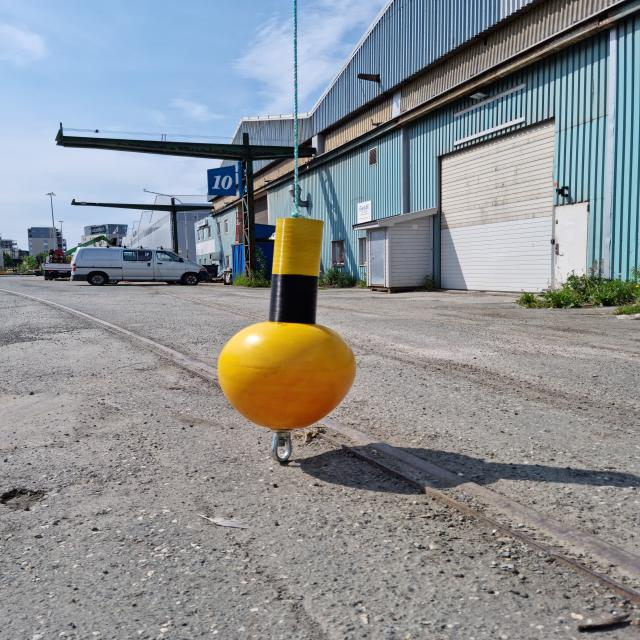west: (217, 218, 357, 430)
